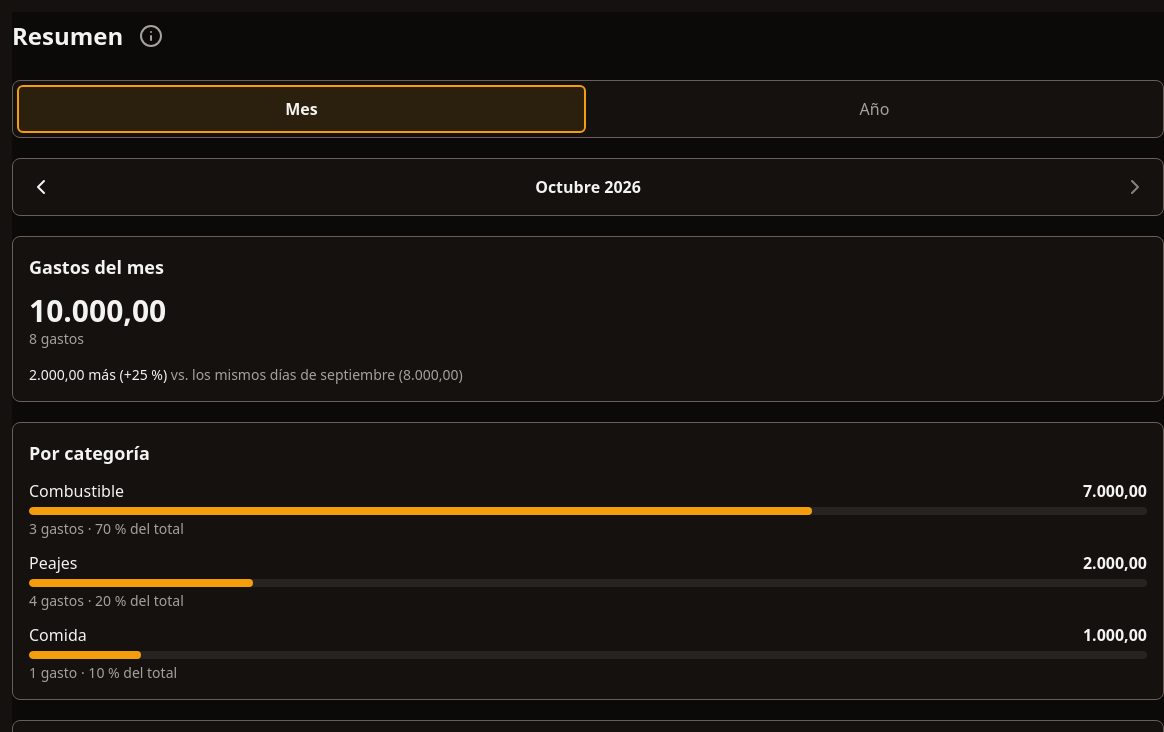
pantalla Resumen: encabezado y mes › cambiar de mes: el mes va a la URL (?mes=) y se piden SUS datos; volver al actual lo saca de la URL
Step 1. Click the button named "Mes anterior" → {"x": 41, "y": 187}, box 17,163 -> 65,211
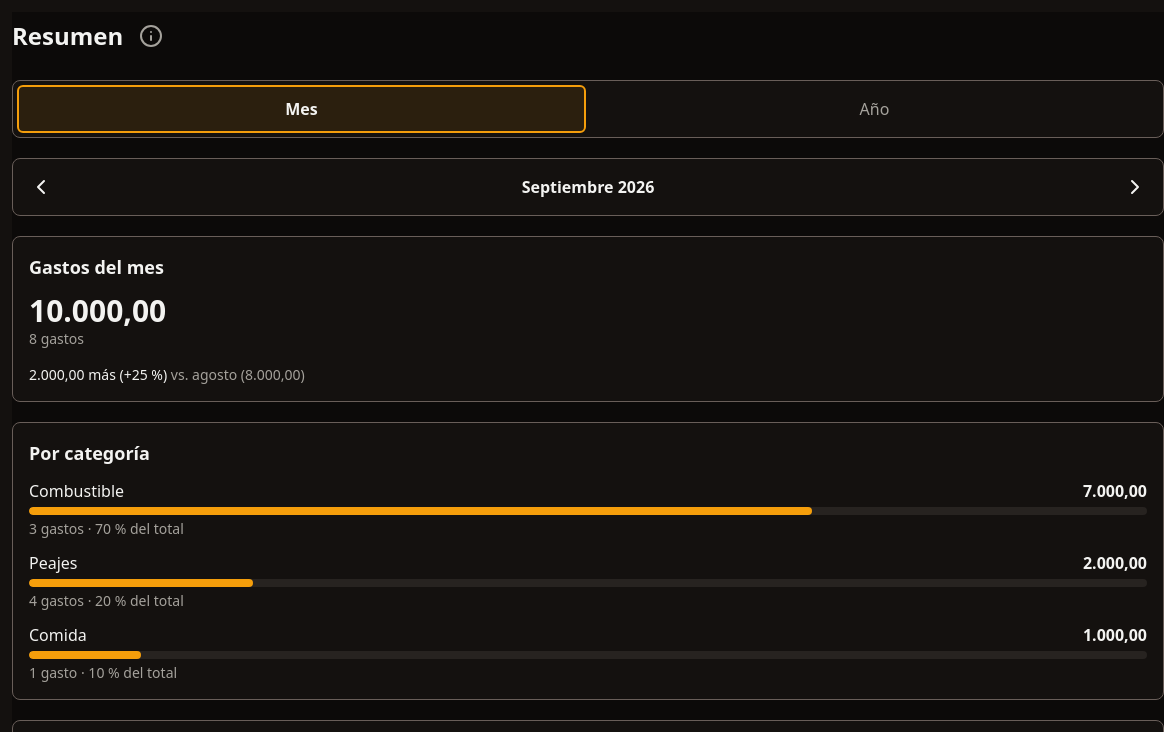
Check: the text "septiembre 2026" is shown, box 522,176 -> 654,198
Step 2. Click the button named "Mes siguiente" → {"x": 1135, "y": 187}, box 1111,163 -> 1159,211
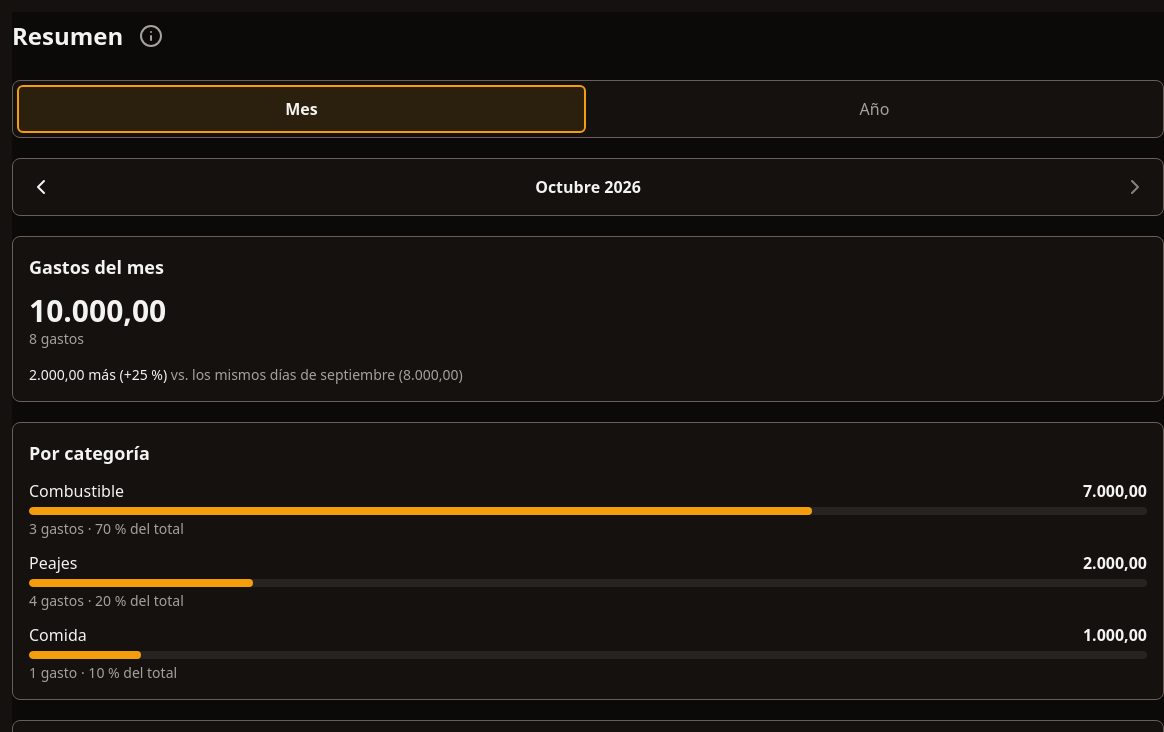
Check: the text "octubre 2026" is shown, box 535,176 -> 641,198
